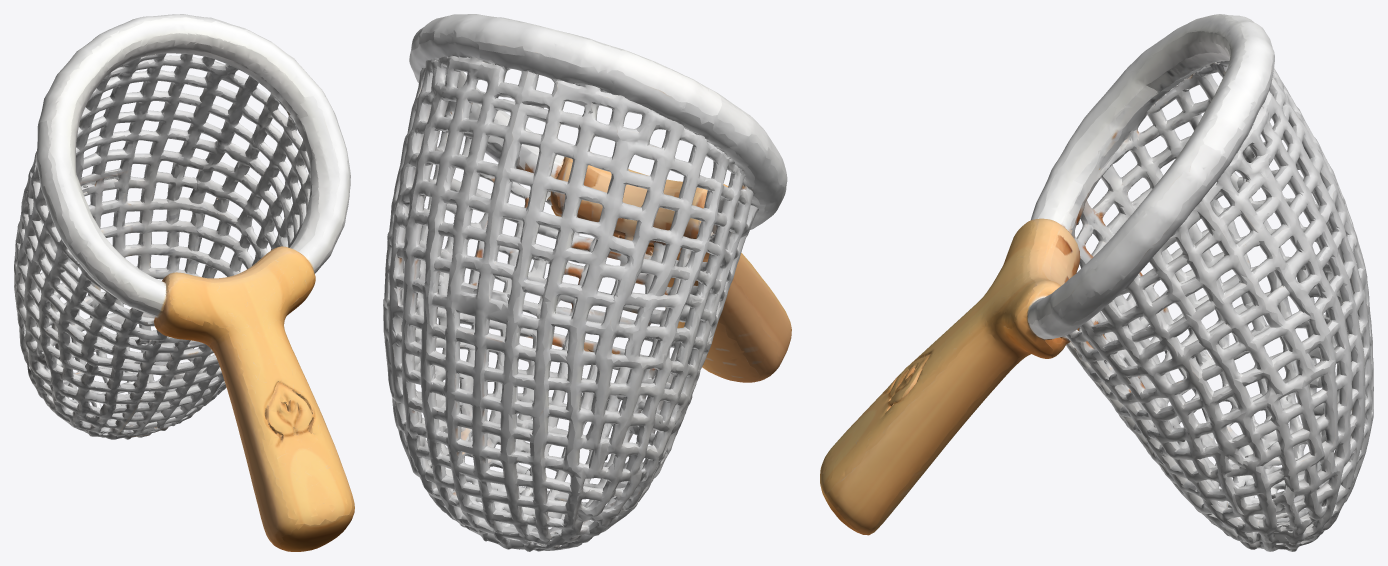
Rendered from prp_net_01.glb.
3 views of the same model, side by side, from view 1: azimuth 30°, elevation 25°; view 2: azimuth 150°, elevation 25°; view 3: azimuth 270°, elevation 25° (orthographic). The views are drawn at different scales.
Parts seen in each view (by area): view 1: geometry_0; view 2: geometry_0; view 3: geometry_0.
Boxes of the visible parts, x1,y1,x2,y2 form: geometry_0: (14, 14, 354, 551); geometry_0: (383, 14, 791, 551); geometry_0: (820, 14, 1373, 551).
Size of the model in its own units: 0.28 by 0.3866 by 0.388.
Materials: 1 (1 with a texture image).
